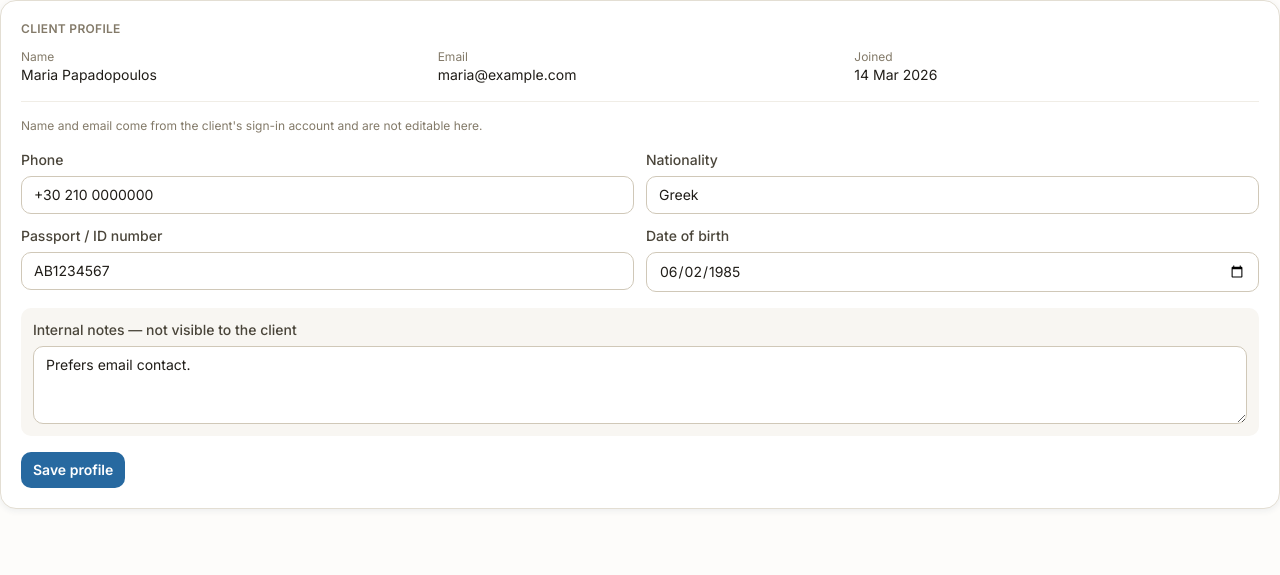
Test case: ClientProfilePanel › surfaces a rejected save inline instead of failing silently
Click the button "Save profile". click: (73, 470)
box: [21, 452, 125, 488]
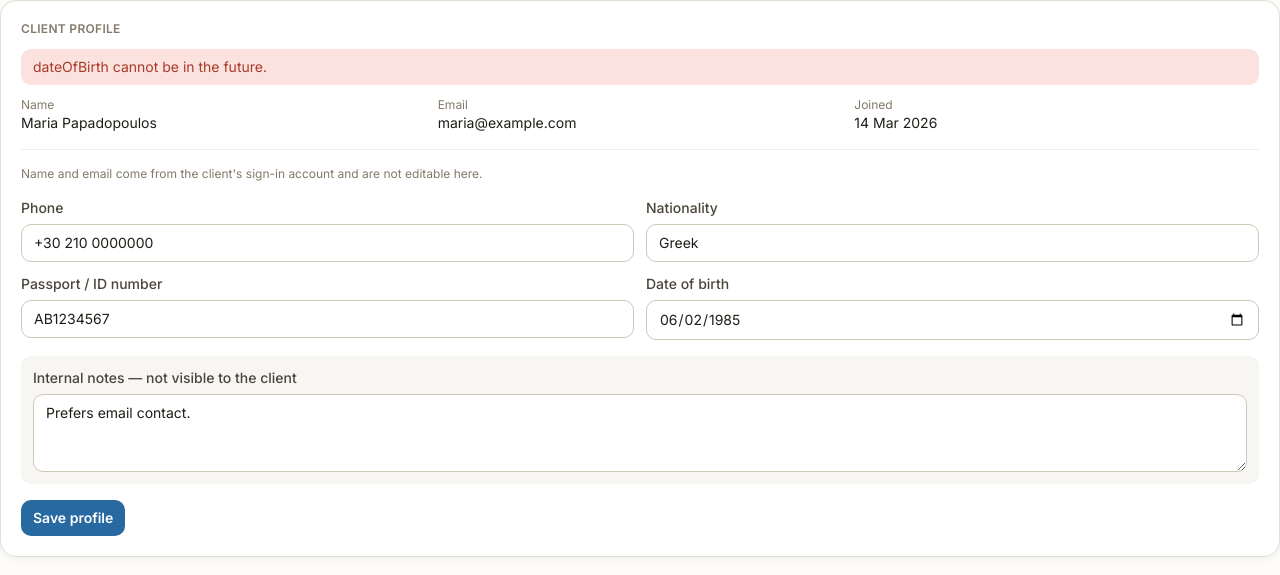
Expected: the message reads "dateOfBirth cannot be in the future.", [33, 58, 267, 75]
